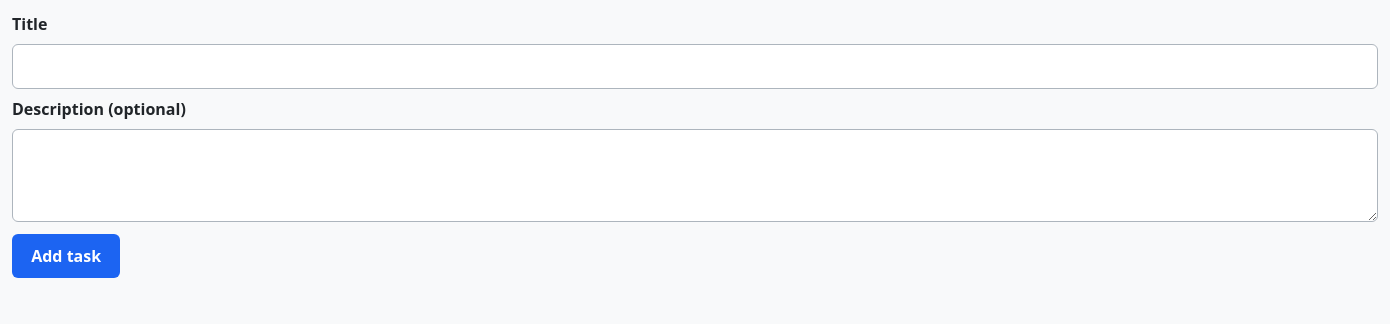
Scenario: TaskForm › server errors › shows the rate limit message
The width and height of the screenshot is (1390, 324).
In the field labelled "Title": (695, 67) [12, 44, 1378, 89], type "Buy milk"
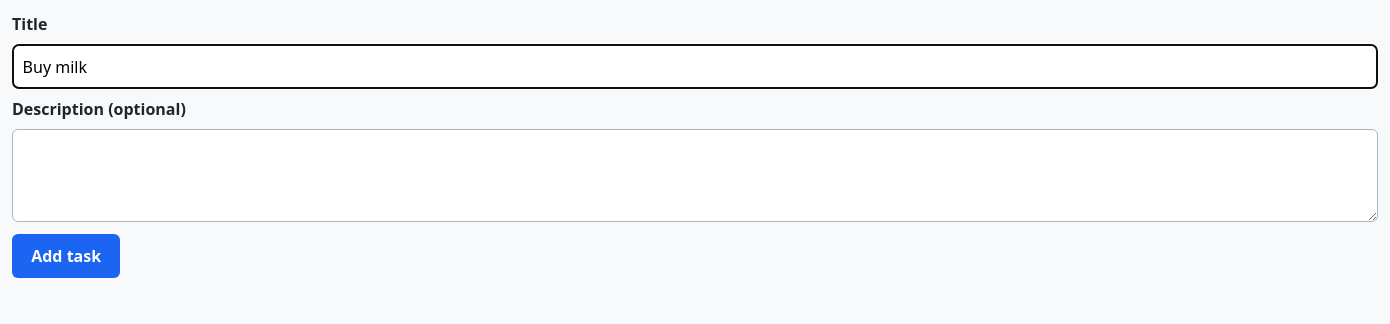
Click the button "Add task": (66, 256) [12, 234, 120, 278]
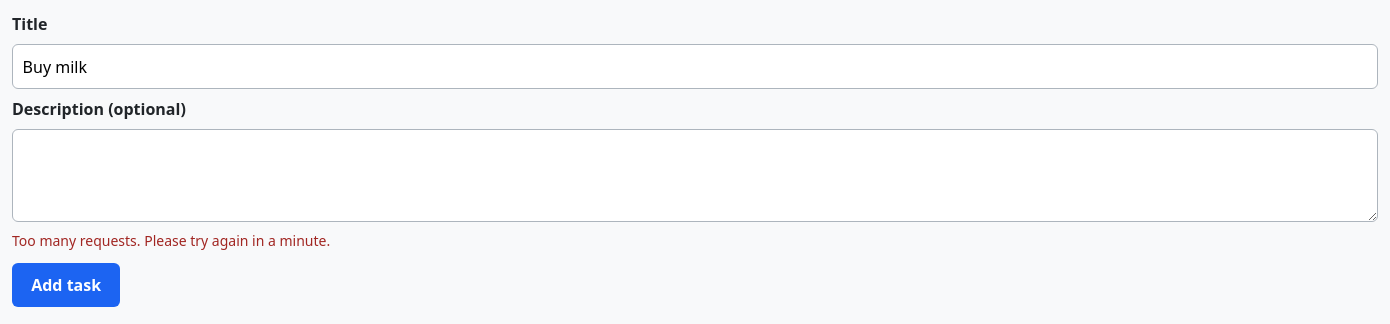
Check: the message reads "Too many requests. Please try again in a minute.", box [12, 231, 330, 250]
